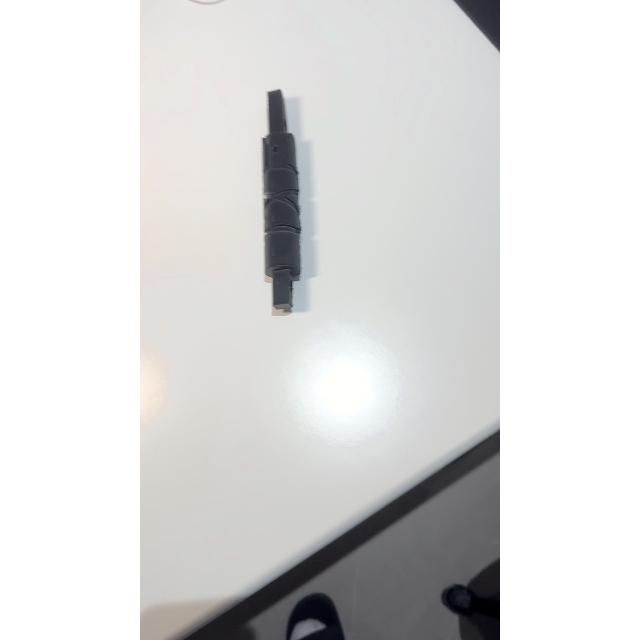Pieza_1: (242, 82, 326, 318)
